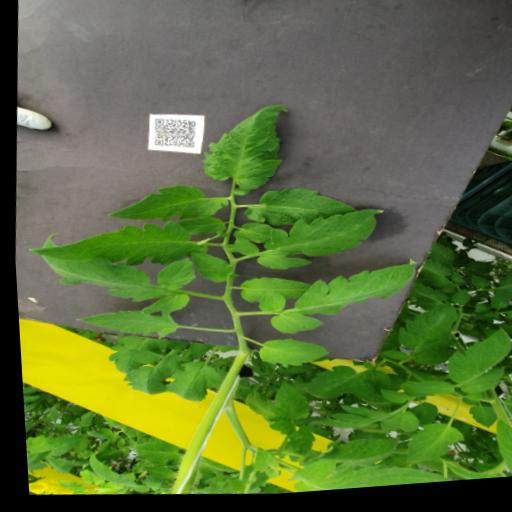Healthy: (250, 252, 418, 348), (29, 222, 196, 314), (20, 208, 201, 277), (248, 200, 384, 283), (192, 101, 295, 199), (278, 452, 448, 497), (101, 176, 227, 234), (238, 183, 358, 237), (371, 301, 458, 375), (437, 327, 512, 405), (64, 301, 175, 347), (294, 364, 387, 411), (396, 423, 462, 475), (115, 347, 178, 400), (251, 337, 326, 376), (159, 359, 218, 408), (233, 274, 309, 312), (260, 380, 307, 428), (184, 249, 231, 289), (413, 262, 459, 298), (133, 291, 186, 320), (228, 222, 272, 249), (401, 383, 449, 405), (243, 446, 275, 478), (461, 409, 492, 438), (405, 407, 433, 432), (229, 238, 257, 261), (65, 409, 90, 429), (444, 295, 468, 313), (465, 279, 487, 297)
